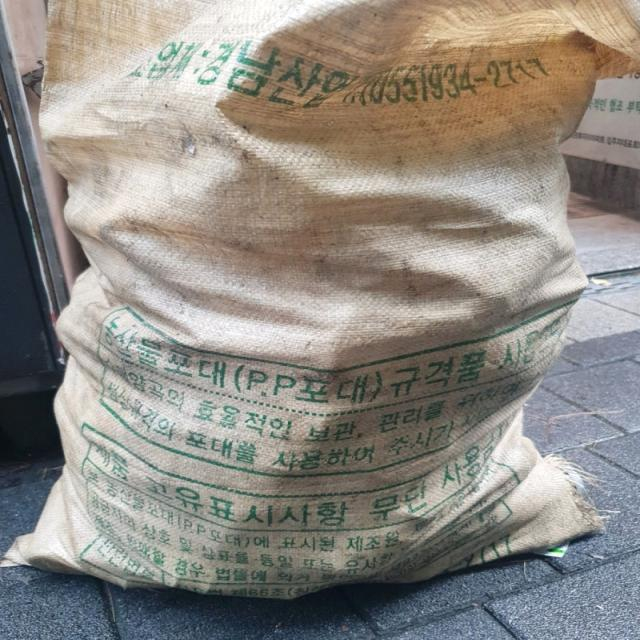PP bag: (8, 0, 634, 612)
